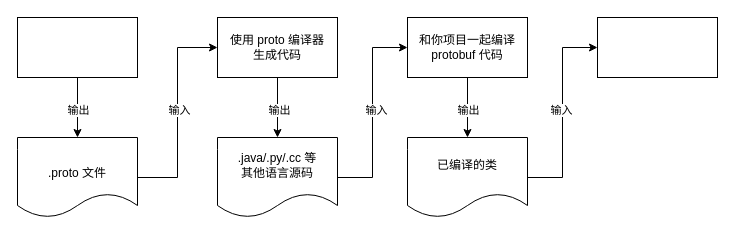
The diagram is 735 pixels wide and 235 high, and some of its shapes have lost their labels. The shapes that lost their labels are listed below. From the top down, each one's centre as x and y in pixels, then its label:
At pixel 77 47: "创建 .proto 文件 定义数据结构".
At pixel 657 47: "使用 protobuf 类 序列化、反序列、共享数据".
